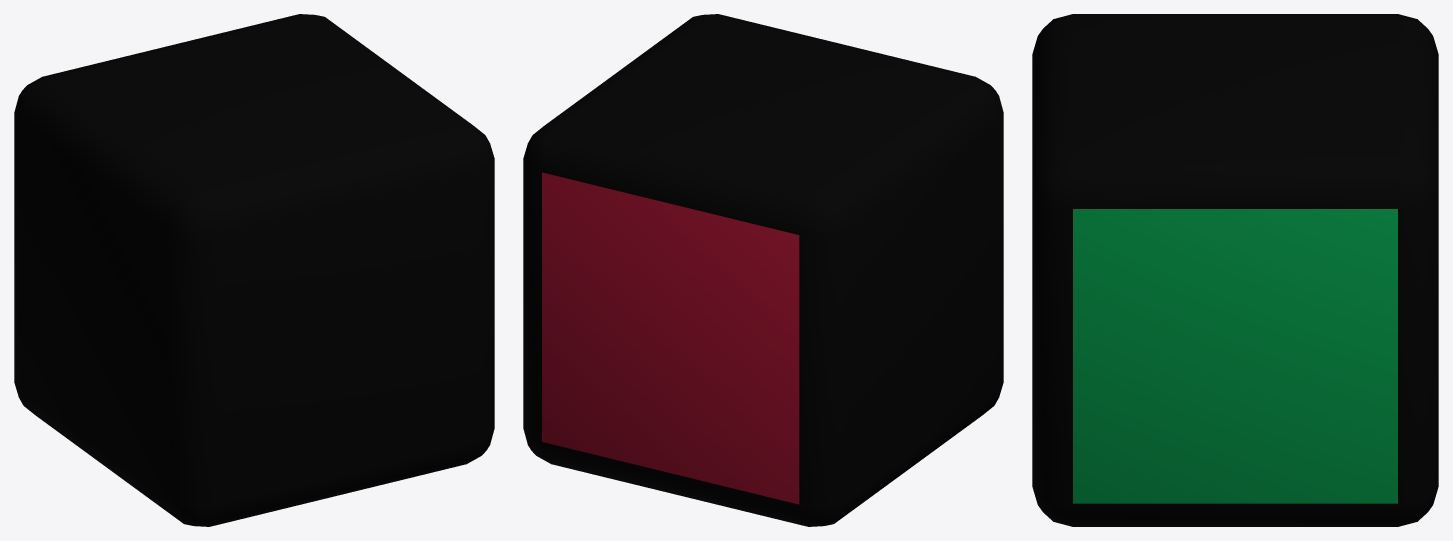
The model's file is cube_back_down_left_corner.gltf.
3 views of the same model, side by side, from view 1: azimuth 30°, elevation 25°; view 2: azimuth 150°, elevation 25°; view 3: azimuth 270°, elevation 25° (orthographic). The views are drawn at different scales.
Parts seen in each view (by area): view 1: Cube.008; view 2: Cube.008; view 3: Cube.008.
Boxes of the visible parts, box(x1,y1,x2,y2) form: Cube.008: box(14, 14, 494, 526); Cube.008: box(523, 14, 1003, 526); Cube.008: box(1032, 14, 1438, 526).
Bounding box in the file's own units: 2 × 2 × 2.
